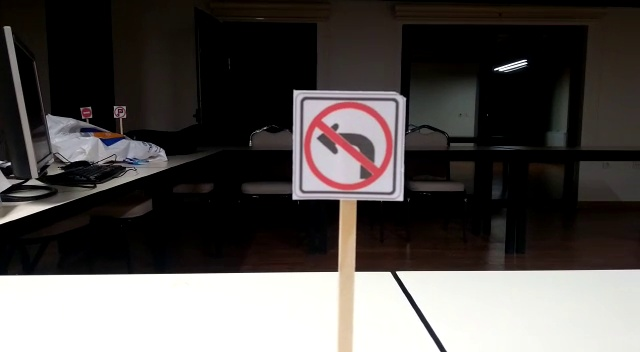sola_donulmez: (292, 96, 400, 198)
